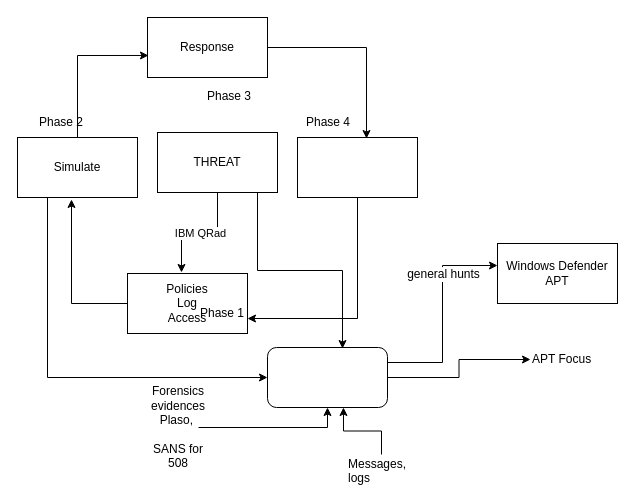
This 635x504 diagram has some shape labels left out. The shapes that lost their labels are listed below. From the top down, each one's centre as x and y in pixels, then its label:
pixel 357 167: Mitigation
pixel 327 377: Hunters
